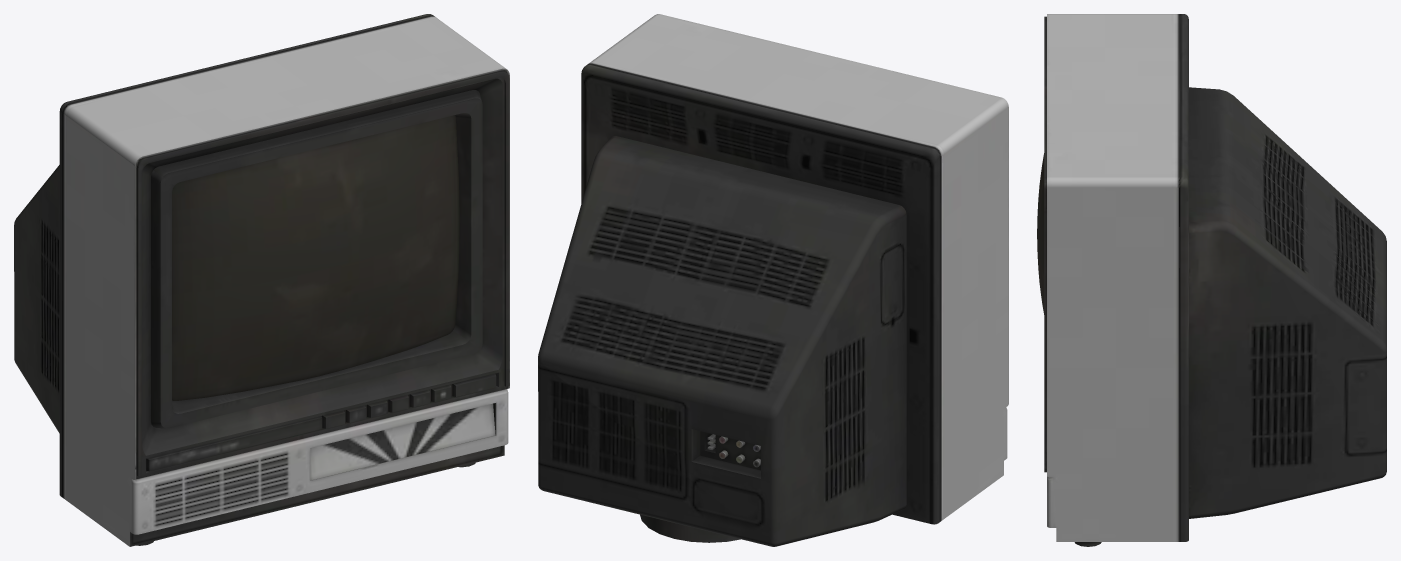
Rendered from television_02.glb.
3 views of the same model, side by side, from view 1: azimuth 30°, elevation 25°; view 2: azimuth 150°, elevation 25°; view 3: azimuth 270°, elevation 25° (orthographic). The views are drawn at different scales.
Visible parts, largest first — view 1: television_02; view 2: television_02; view 3: television_02.
Boxes of the visible parts, x1,y1,x2,y2 form: television_02: (14, 14, 509, 546); television_02: (538, 14, 1008, 546); television_02: (1037, 14, 1386, 546).
Bounding box in the file's own units: 0.3998 × 0.4114 × 0.3502.
Materials: 1 (1 with a texture image).
